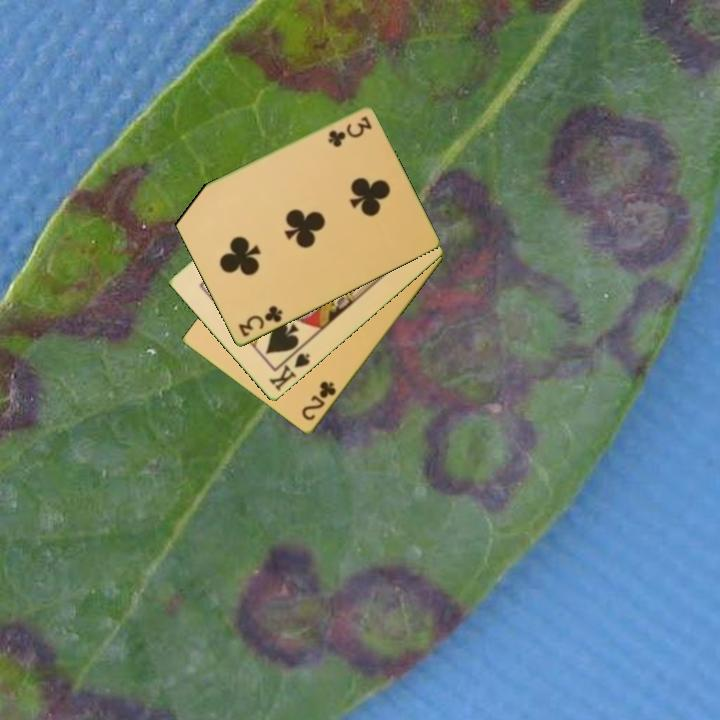2c: (298, 378, 339, 424)
3c: (235, 302, 285, 340), (324, 113, 374, 148)
Ks: (265, 344, 313, 395)
